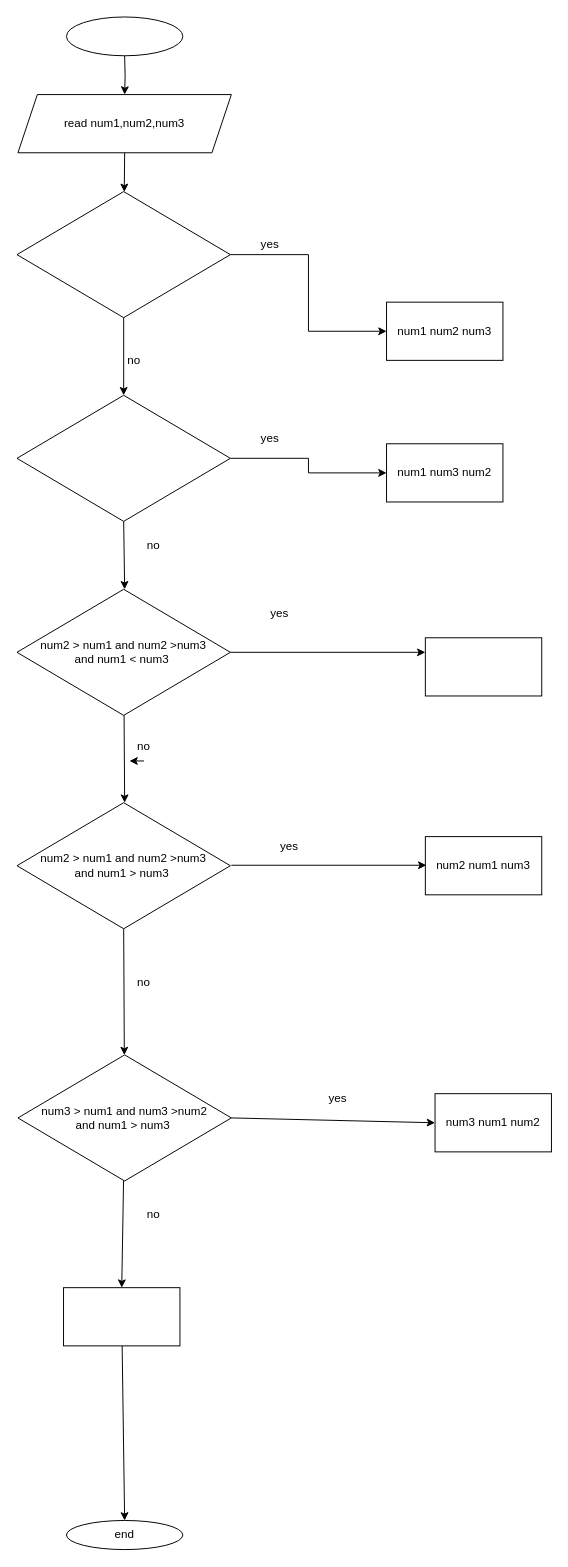
Some shapes in this 568 by 1567 pixel diagram are drawn without their labels. Each missing label, with the centre of its shape:
"num1 > num2 and num1 >num3 and num2 < num3" belongs at (x=123, y=457).
"num1 > num2 and num1 >num3 and num2 > num3" belongs at (x=123, y=254).
"num2 num3 num1" belongs at (x=483, y=666).
"num3 num2 num1" belongs at (x=121, y=1316).
"start" belongs at (x=124, y=36).
